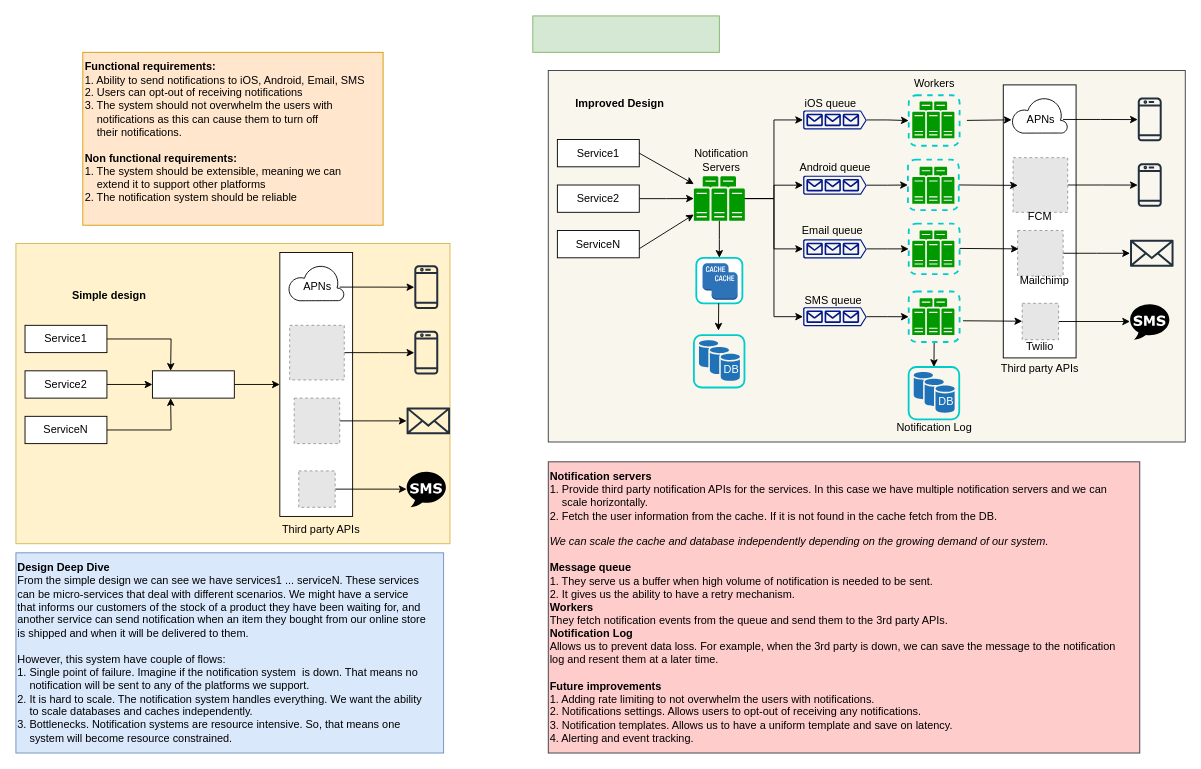
The diagram is 1201 pixels wide and 769 high, and some of its shapes have lost their labels. Grey dashed boxes stand in for pictures. Each missing label, with the centre of its shape:
"Notification system" belongs at (x=193, y=384).
"Notification System Design" belongs at (x=625, y=33).
